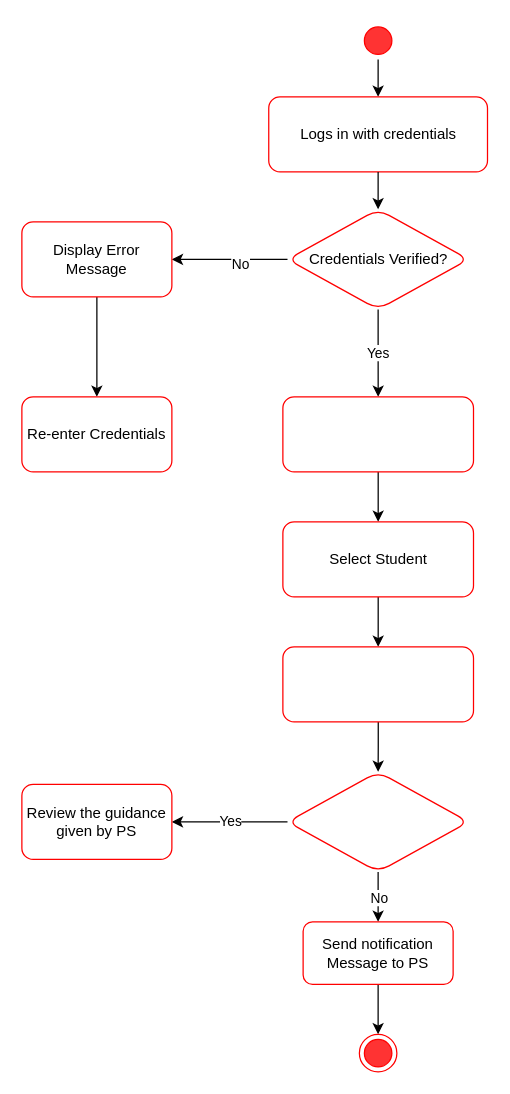
Some shapes in this 510 by 1094 pixel diagram are drawn without their labels. The shapes that lost their labels are listed below. From the top down, each one's centre as x and y in pixels, then its label:
the point at 378,434: Navigate to 'Student Supervision Status' Page
the point at 378,684: Display supervision status
the point at 377,821: Did PS reply within time range
